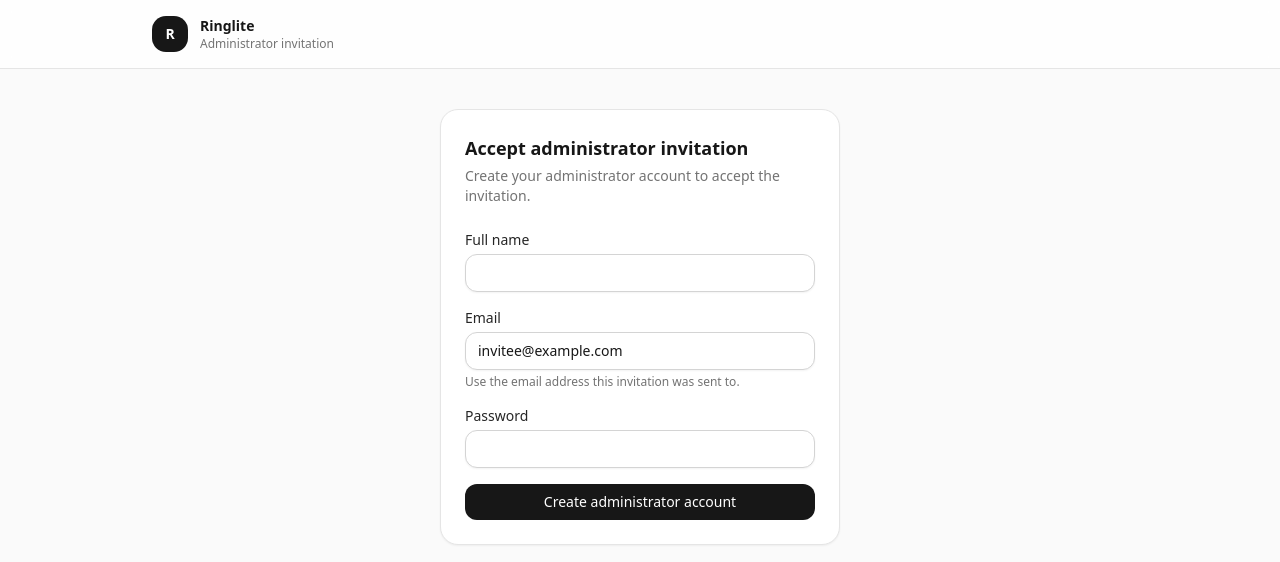
Scenario: AdminEntry signup invite handling › submits only personal fields plus invite_token and shows login link on success
Step 1. Type "Invitee" into the field labelled "Full name" → (640, 273), box left=465, top=254, right=815, bottom=292
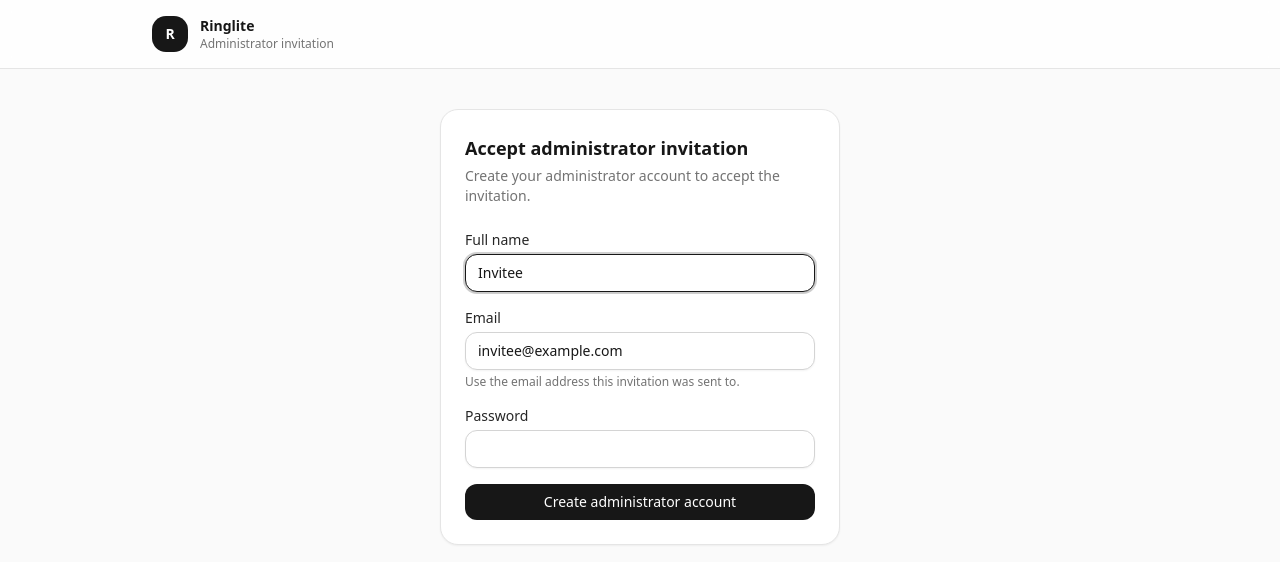
Step 2. Type "hunter2hunter2" into the password field labelled "Password" → (640, 449), box left=465, top=430, right=815, bottom=468
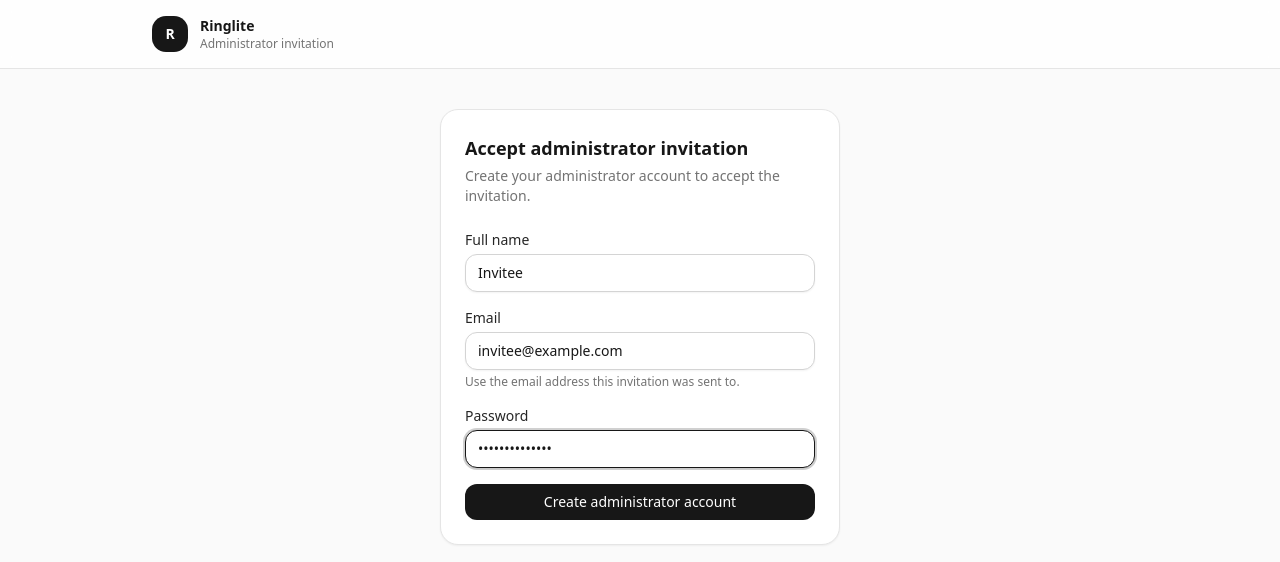
Step 3. Click the button "Create administrator account" → (640, 502), box left=465, top=484, right=815, bottom=520
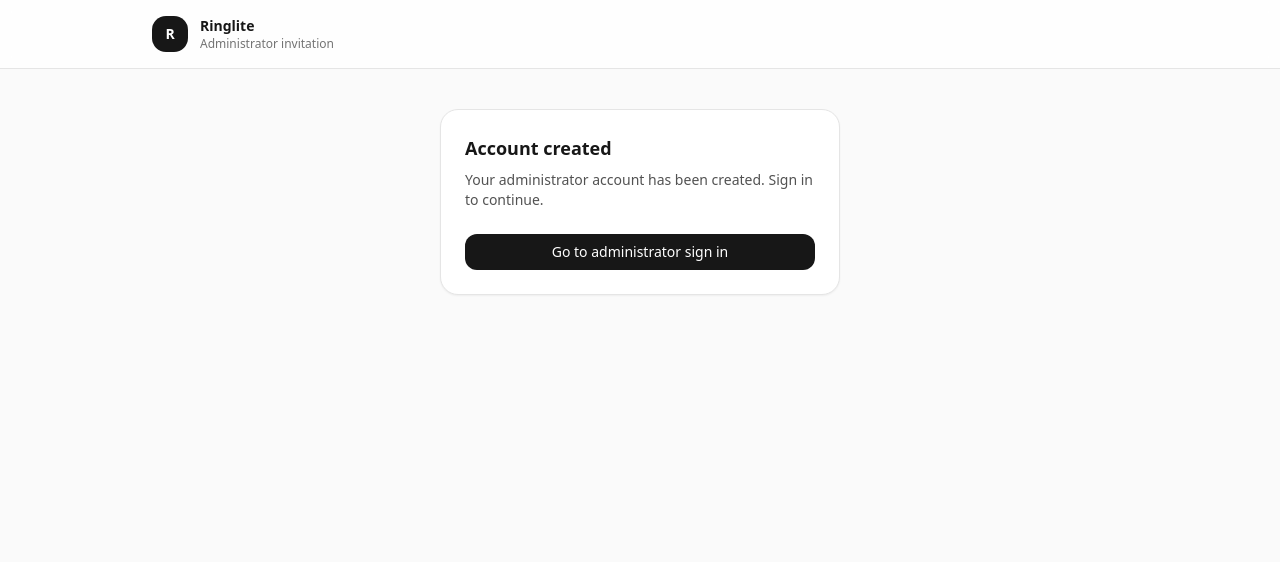
Now the heading "Account created" is shown, box left=465, top=136, right=612, bottom=160
Now the link "Go to administrator sign in" is shown, box left=465, top=234, right=815, bottom=270
